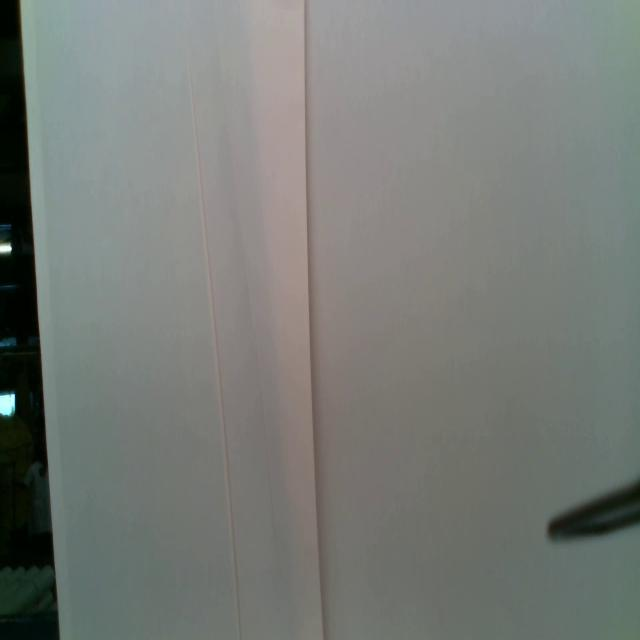crease: (264, 0, 327, 640), (183, 10, 241, 640)
